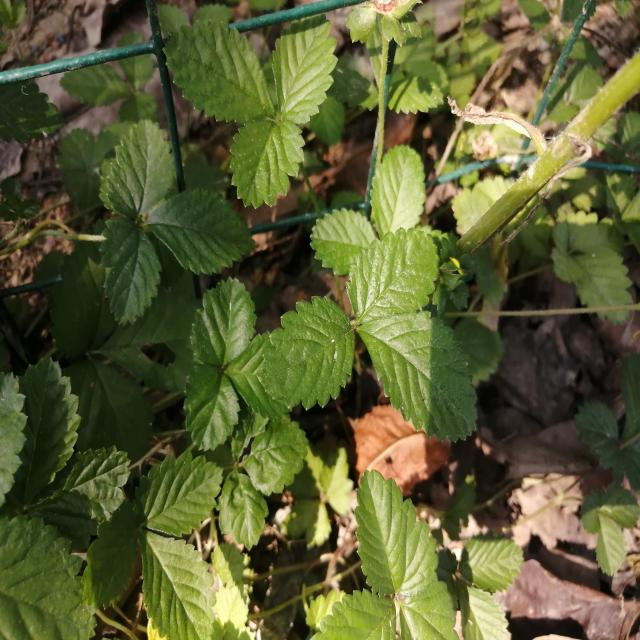Mock_strawberry: (245, 198, 492, 450), (94, 116, 280, 326), (174, 23, 343, 204), (162, 285, 307, 453)
